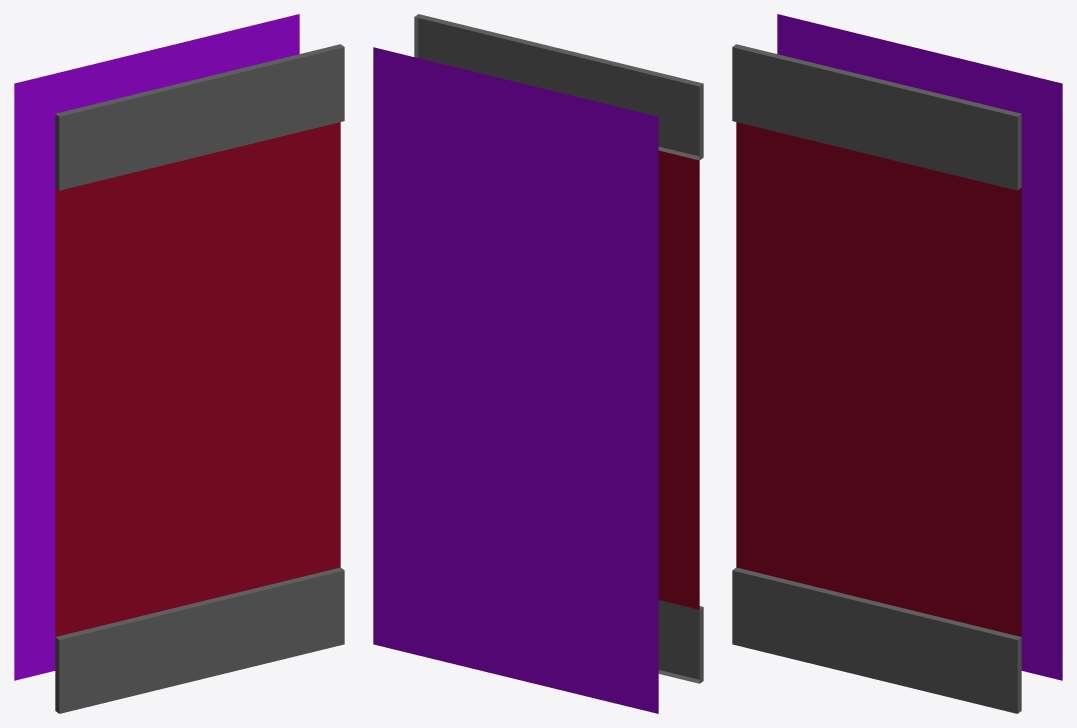
File: Wall_01_1x2.fbx
The picture shows the model from 3 angles, left to right: view 1: azimuth 30°, elevation 25°; view 2: azimuth 150°, elevation 25°; view 3: azimuth 330°, elevation 25°; orthographic projection.
Visible parts, largest first — view 1: Wall_01_1x2; view 2: Wall_01_1x2; view 3: Wall_01_1x2.
Part boxes in pixels (left/top/right/bottom): Wall_01_1x2: left=14, top=14, right=344, bottom=713; Wall_01_1x2: left=373, top=14, right=703, bottom=713; Wall_01_1x2: left=732, top=14, right=1062, bottom=713.
Size of the model in its own units: 1 by 2 by 0.275.
